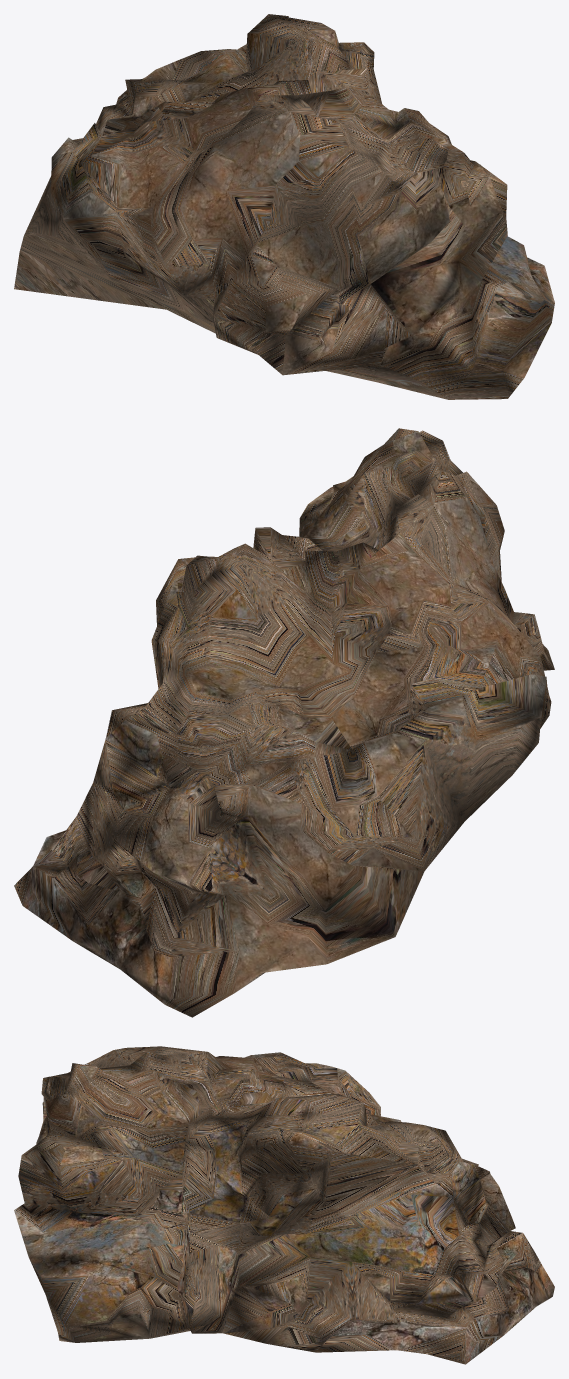
The model's file is boulder-low.glb.
3 renders of one model, top to bottom at view 1: azimuth 30°, elevation 25°; view 2: azimuth 150°, elevation 25°; view 3: azimuth 270°, elevation 25°, orthographic. The views are drawn at different scales.
Visible parts, largest first — view 1: boulder_01; view 2: boulder_01; view 3: boulder_01.
Part boxes in pixels (box(x1,y1,x2,y2)): boulder_01: box(14, 14, 554, 399); boulder_01: box(14, 428, 554, 1017); boulder_01: box(14, 1046, 554, 1364).
Bounding box in the file's own units: 1.26 × 1 × 1.83.
Materials: 1 (1 with a texture image).
